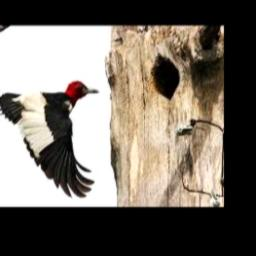Woodpecker: (0, 81, 98, 198)
